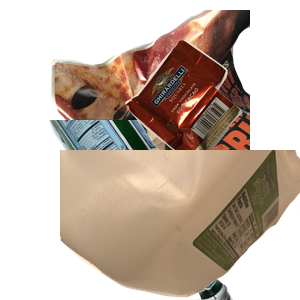glass: (37, 120, 262, 300)
paper: (49, 10, 289, 190)
plastic: (60, 150, 300, 300)
trash: (123, 37, 300, 192)
